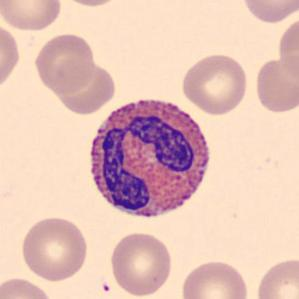Eosinophil: (81, 90, 217, 228)
RBC: (18, 214, 90, 284), (107, 229, 175, 298), (179, 51, 250, 116), (32, 30, 98, 96), (56, 62, 116, 115), (178, 258, 251, 299), (252, 54, 298, 115), (0, 0, 64, 33), (253, 255, 298, 299), (276, 12, 298, 88), (0, 20, 22, 93), (239, 0, 298, 25), (0, 275, 56, 299), (54, 0, 126, 8)
